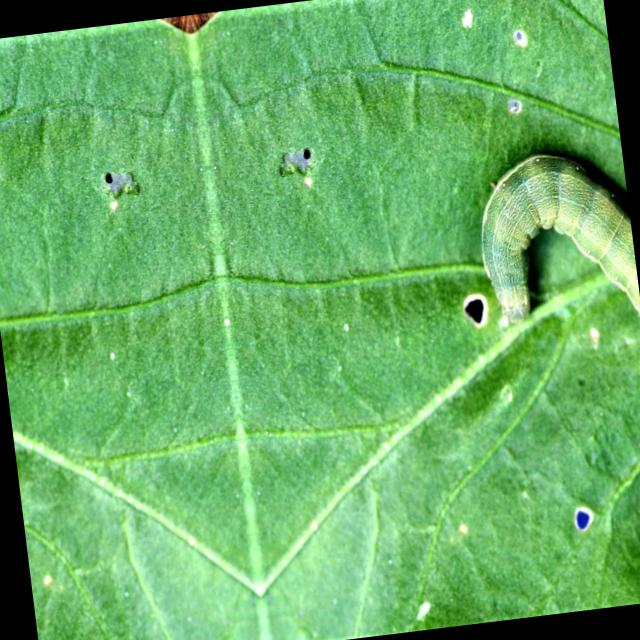Armyworm: (464, 122, 640, 367)
Armyworm_damage: (261, 114, 340, 230), (92, 147, 156, 233), (448, 272, 496, 342), (564, 497, 603, 537)
